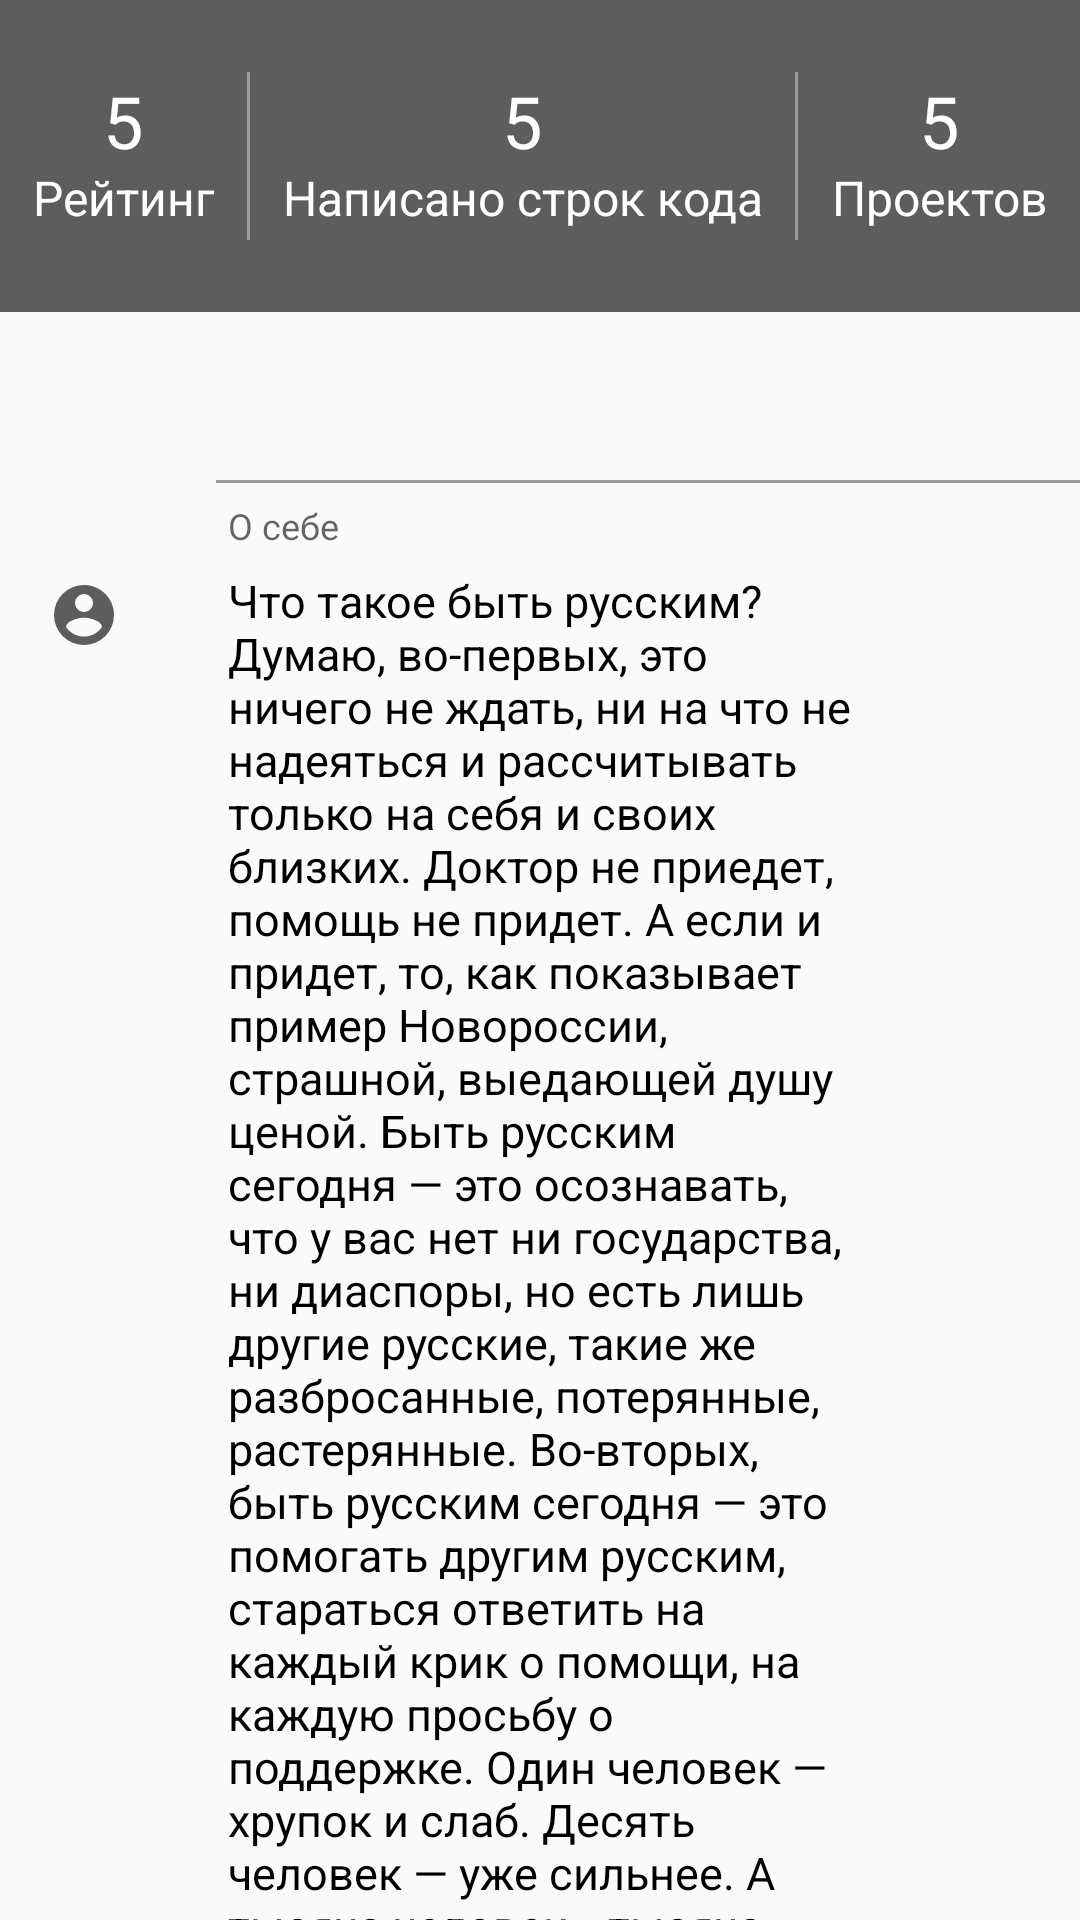

Named icons in this screenshot (1080*1920) and their centers, (x=x, y=y):
account circle: (x=84, y=615)
